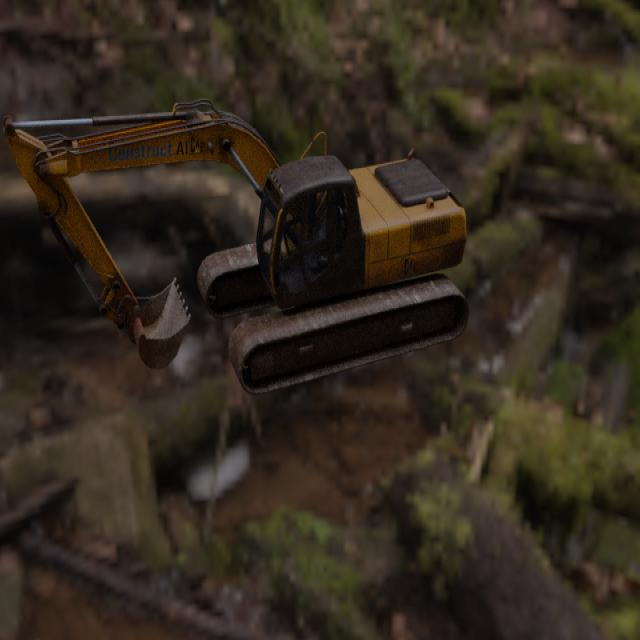excavator: (2, 97, 469, 395)
